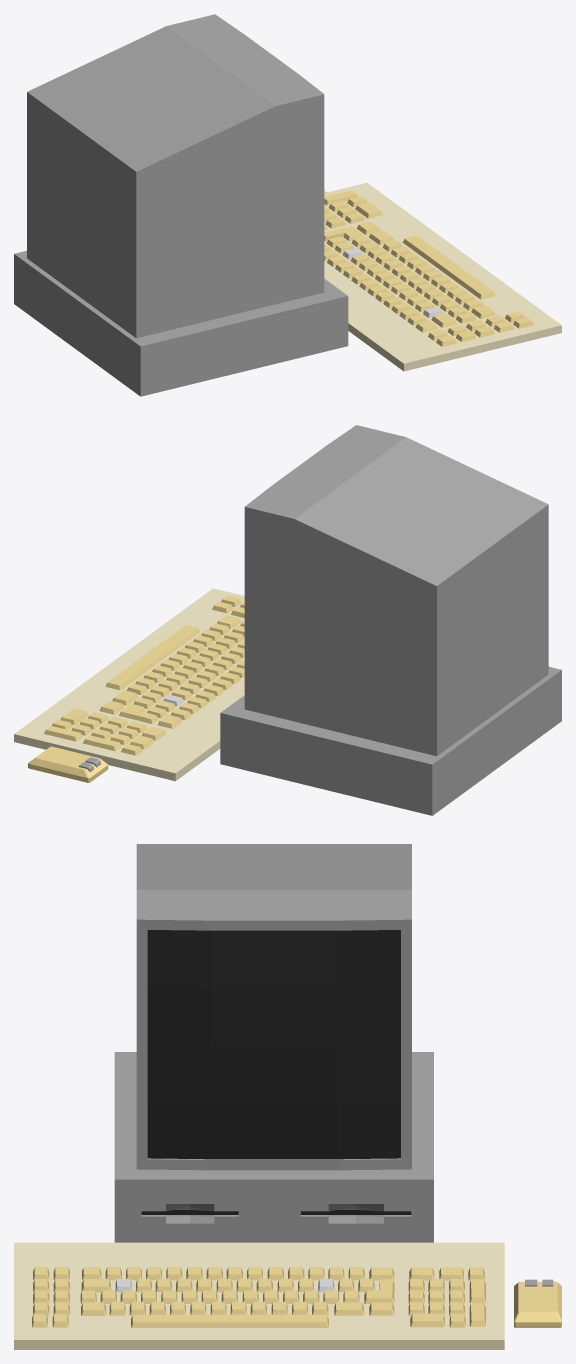
The model's file is game computer.fbx.
The picture shows the model from 3 angles, top to bottom: view 1: azimuth 30°, elevation 25°; view 2: azimuth 150°, elevation 25°; view 3: azimuth 270°, elevation 25°; orthographic projection. The views are drawn at different scales.
Parts seen in each view (by area): view 1: Cube, Cube.001, Cube.072; view 2: Cube, Cube.001, Cube.100, Cube.072; view 3: Cube, Cube.001, Cube.072, Cube.100.
Boxes of the visible parts, x1,y1,x2,y2 form: Cube: (14,14,348,396); Cube.001: (324,183,561,371); Cube.072: (402,235,495,299); Cube: (220,425,561,815); Cube.001: (14,588,244,781); Cube.100: (28,746,108,782); Cube.072: (105,625,200,690); Cube: (114,844,433,1242); Cube.001: (14,1242,504,1349); Cube.072: (131,1314,328,1327); Cube.100: (514,1279,561,1327).
Bounding box in the file's own units: 403 × 252 × 398.
